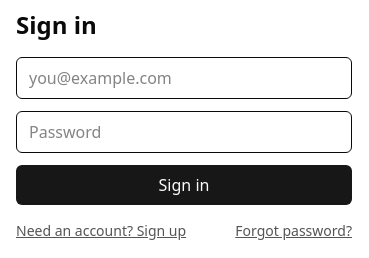
Scenario: LoginPage › shows reset form when "Forgot password?" is clicked
Check: the password field with placeholder "Password" is shown, box top-left (16, 111), bottom-right (352, 153)
Click the button "Forgot password?". click: (294, 231)
box: top-left (235, 221), bottom-right (352, 241)
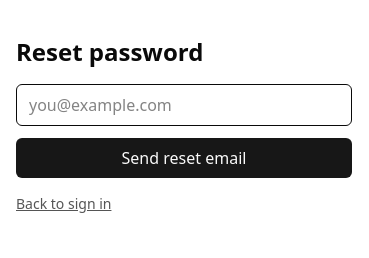
Check: the heading "Reset password" is shown, box top-left (16, 35), bottom-right (203, 68)
Check: the button "Send reset email" is shown, box top-left (16, 138), bottom-right (352, 178)
